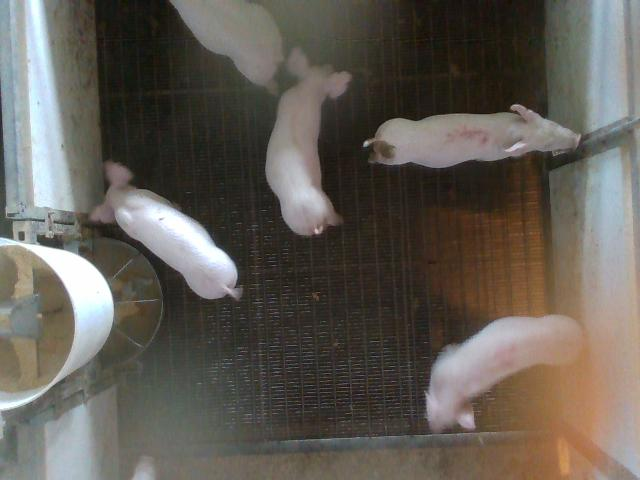pig-4: (426, 315, 582, 432)
pig-5: (364, 104, 581, 168)
